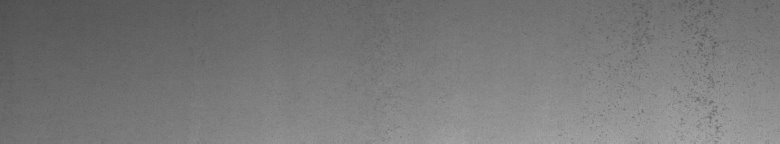ib: (637, 4, 728, 132)
